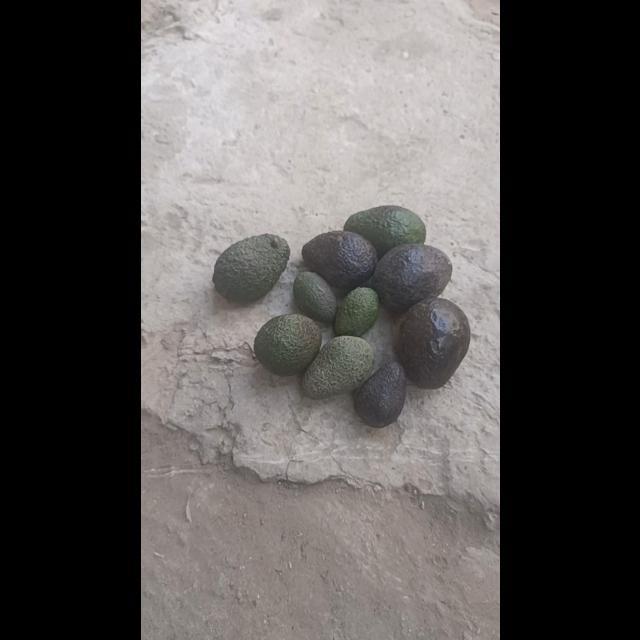Primera: (394, 297, 470, 387), (370, 242, 452, 310), (212, 233, 288, 303), (300, 229, 378, 291), (344, 204, 424, 258)
Segunda: (300, 334, 374, 398), (252, 312, 321, 374)
Tercera: (354, 360, 406, 426), (332, 286, 378, 338), (292, 270, 338, 322)
